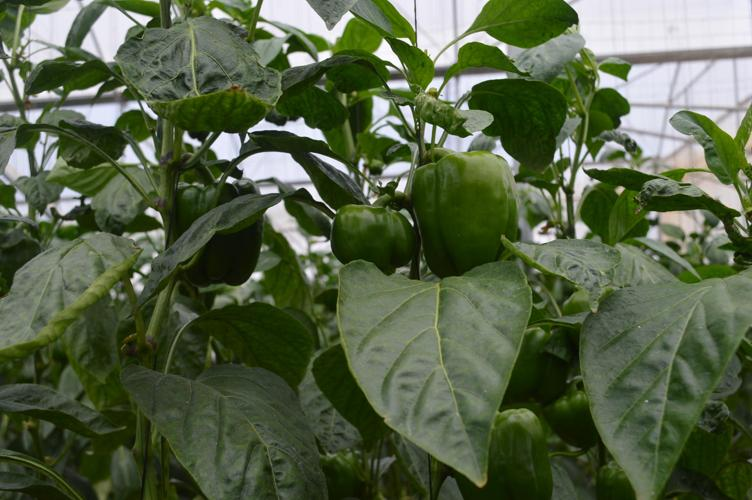BellPepper: (414, 152, 516, 272), (176, 180, 264, 285), (453, 409, 550, 500), (328, 204, 411, 274), (509, 326, 559, 402), (563, 287, 613, 355), (553, 391, 598, 450)
